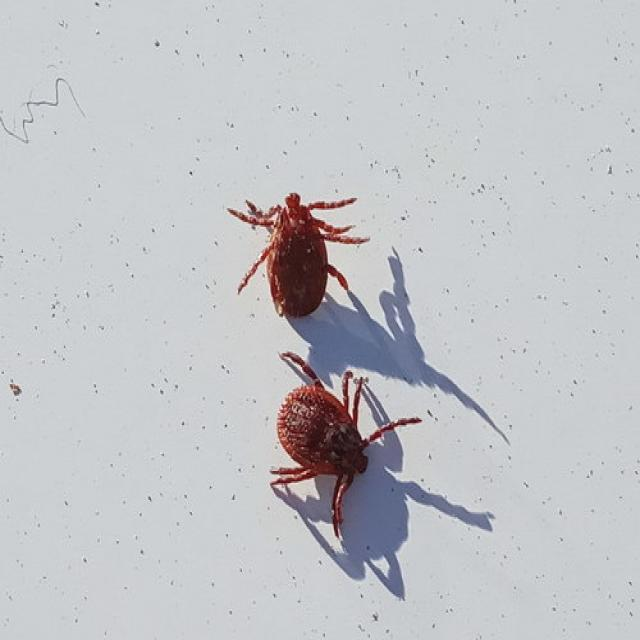Dermacentor Reticulatus-F: (271, 353, 422, 537)
Dermacentor Reticulatus-M: (230, 193, 367, 317)
